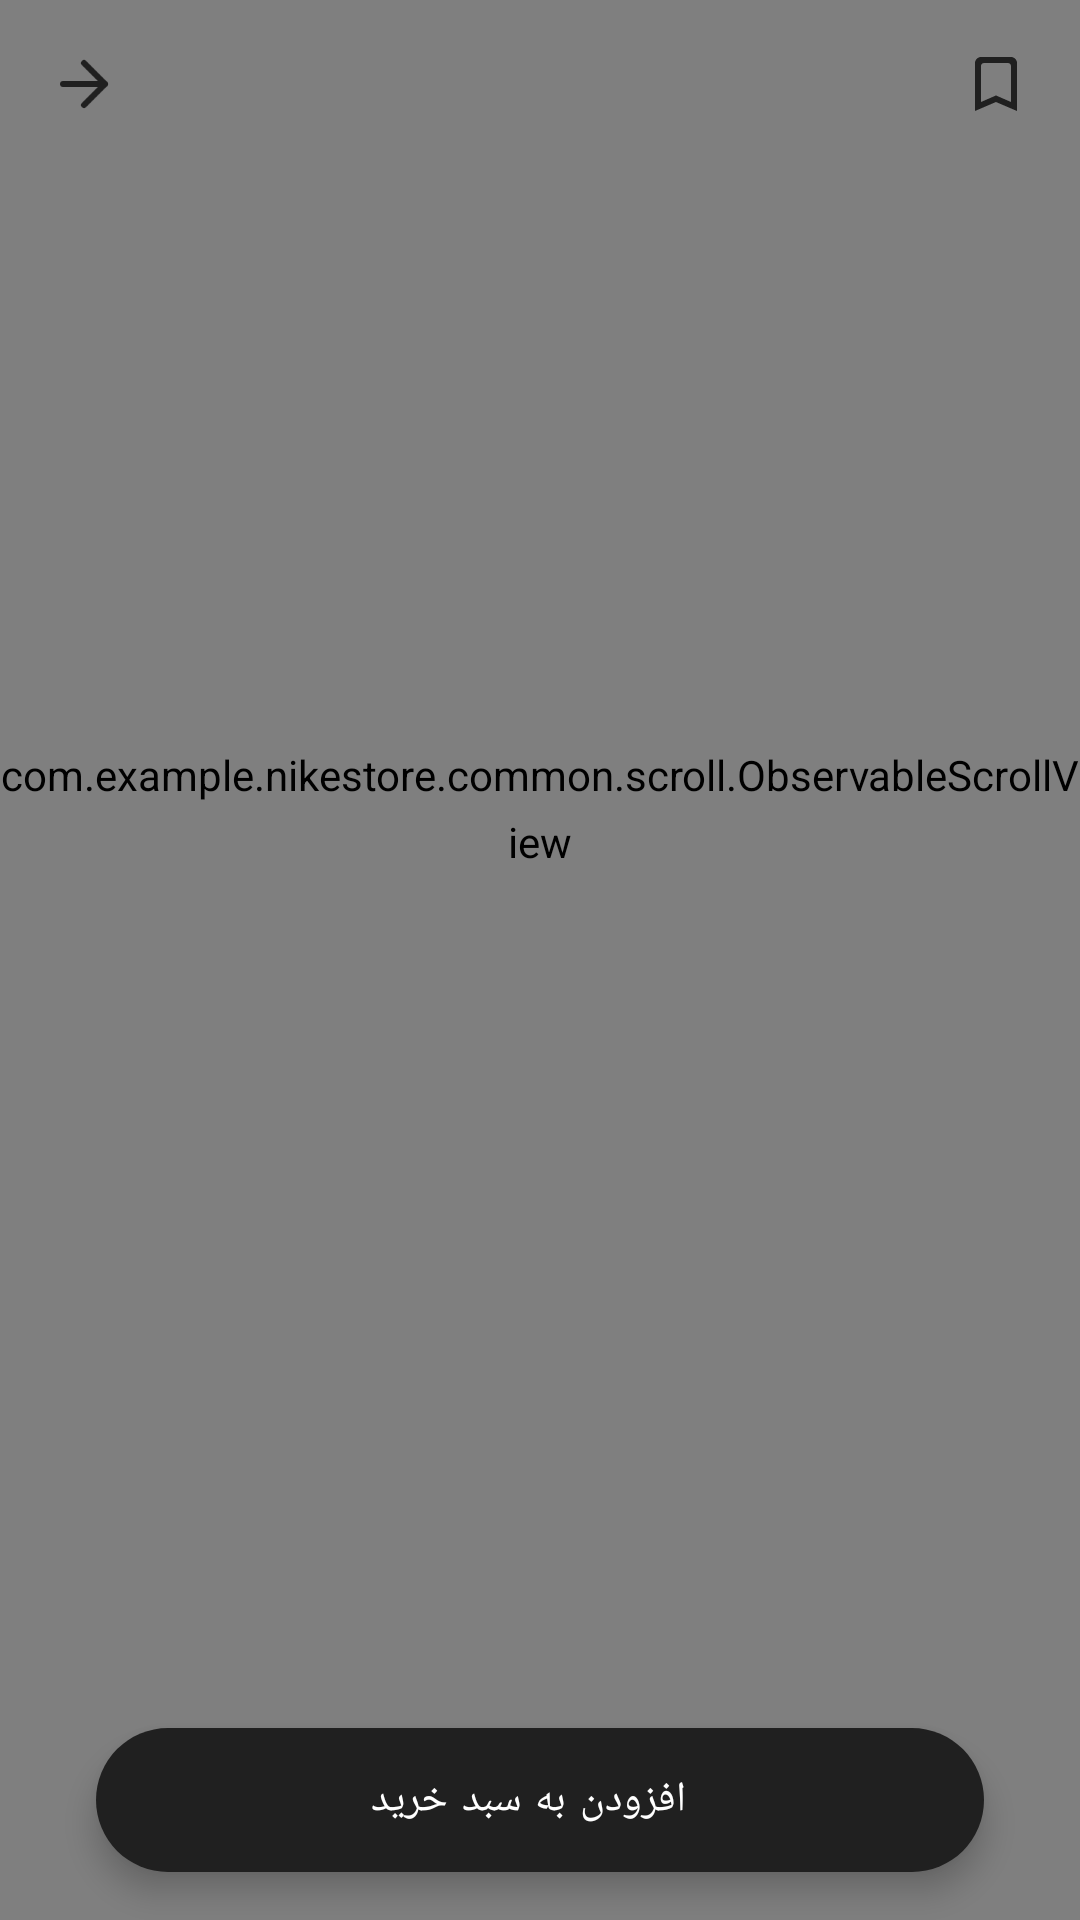

Where to tap for icons on this 1080w x 1920h app screen, as point (x, y):
bookmark border: point (996, 84)
